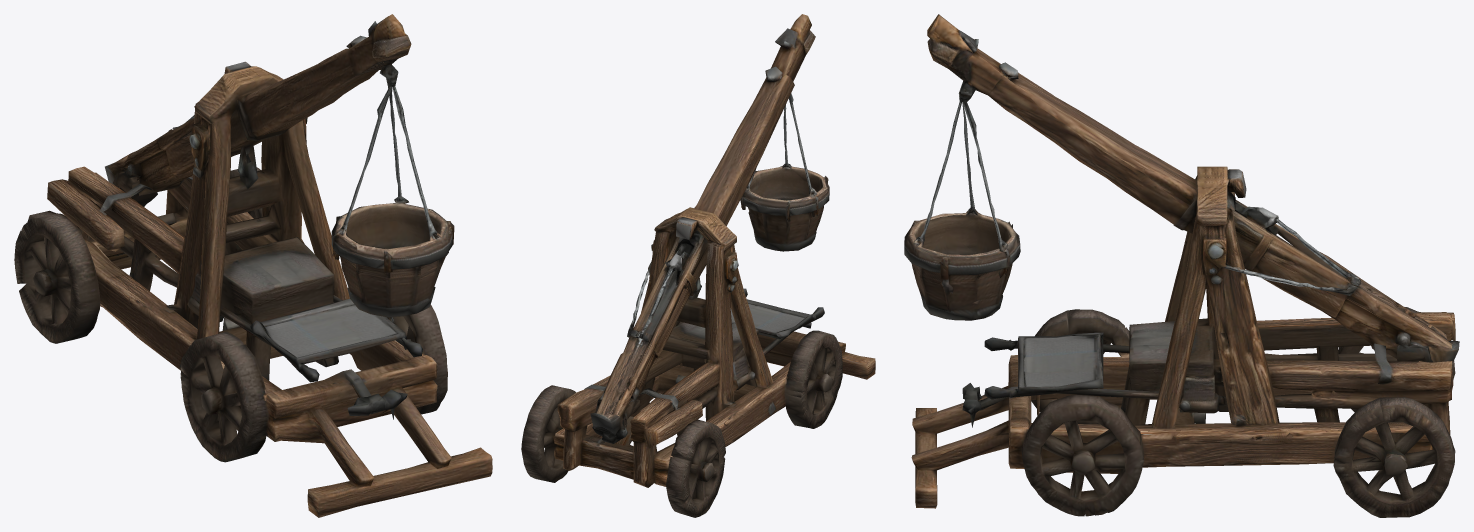
The model's file is catapult.glb.
3 renders of one model, left to right at view 1: azimuth 30°, elevation 25°; view 2: azimuth 150°, elevation 25°; view 3: azimuth 270°, elevation 25°, orthographic. The views are drawn at different scales.
Parts seen in each view (by area): view 1: tripo_node_5046eb09-c9f9-4695-823c-b81749d389ea; view 2: tripo_node_5046eb09-c9f9-4695-823c-b81749d389ea; view 3: tripo_node_5046eb09-c9f9-4695-823c-b81749d389ea.
Boxes of the visible parts, x1=… form: tripo_node_5046eb09-c9f9-4695-823c-b81749d389ea: x1=14, y1=14, x2=492, y2=517; tripo_node_5046eb09-c9f9-4695-823c-b81749d389ea: x1=521, y1=14, x2=875, y2=517; tripo_node_5046eb09-c9f9-4695-823c-b81749d389ea: x1=904, y1=14, x2=1459, y2=517.
Bounding box in the file's own units: 0.6048 × 1.2 × 1.33.
Materials: 1 (1 with a texture image).
